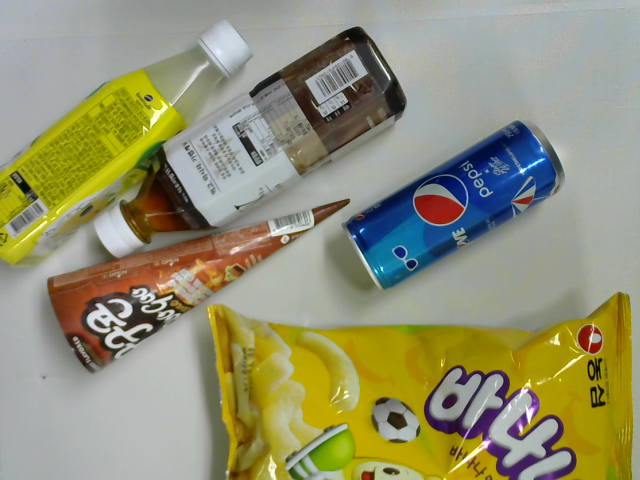Banana_Kick: (205, 292, 640, 480)
GooGoo_Cone_CVS: (44, 195, 352, 373)
Pepsi_Cola_Can_250ml: (342, 118, 568, 292)
Post-meal_recipe_W_tea_500ml: (89, 27, 406, 260)
Sunkist_Lemonaid_Pet: (1, 18, 252, 272)
